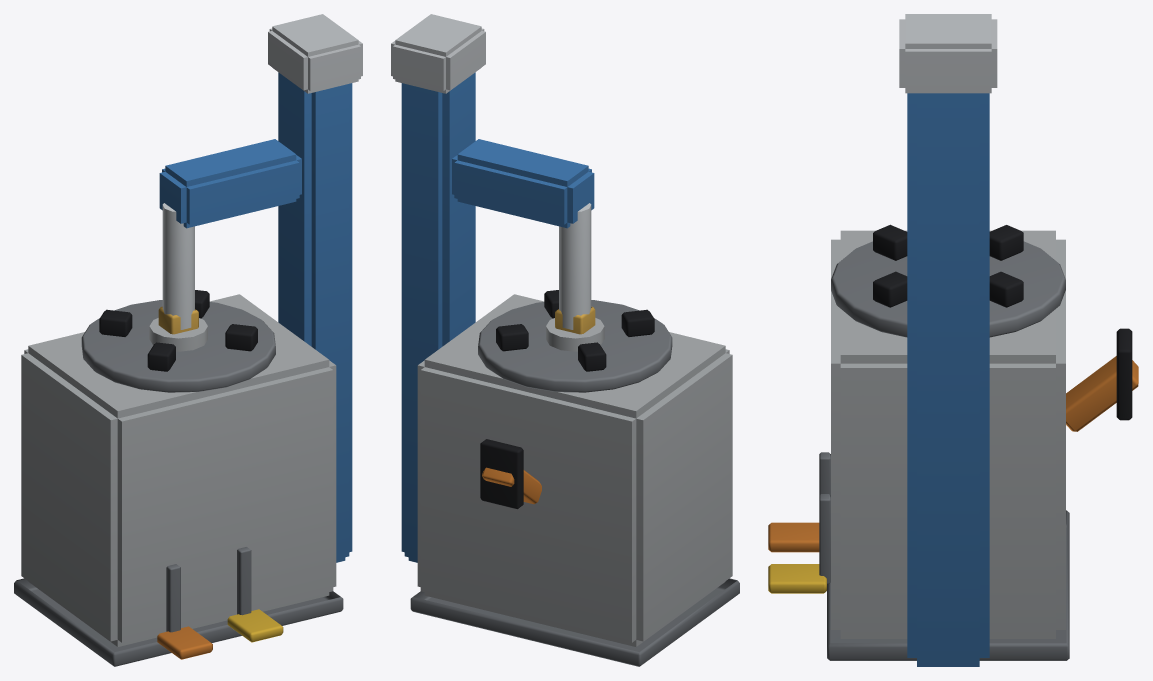
File: SM_TireChanger_01.glb
3 renders of one model, left to right at view 1: azimuth 30°, elevation 25°; view 2: azimuth 150°, elevation 25°; view 3: azimuth 270°, elevation 25°, orthographic. The views are drawn at different scales.
Visible parts, largest first — view 1: SM_TireChanger_01; view 2: SM_TireChanger_01; view 3: SM_TireChanger_01.
Boxes of the visible parts, x1=… form: SM_TireChanger_01: x1=14, y1=14, x2=362, y2=666; SM_TireChanger_01: x1=391, y1=14, x2=739, y2=666; SM_TireChanger_01: x1=768, y1=14, x2=1138, y2=666.
Bounding box in the file's own units: 1 × 1.82 × 0.9459.
Materials: 1 (1 with a texture image).
